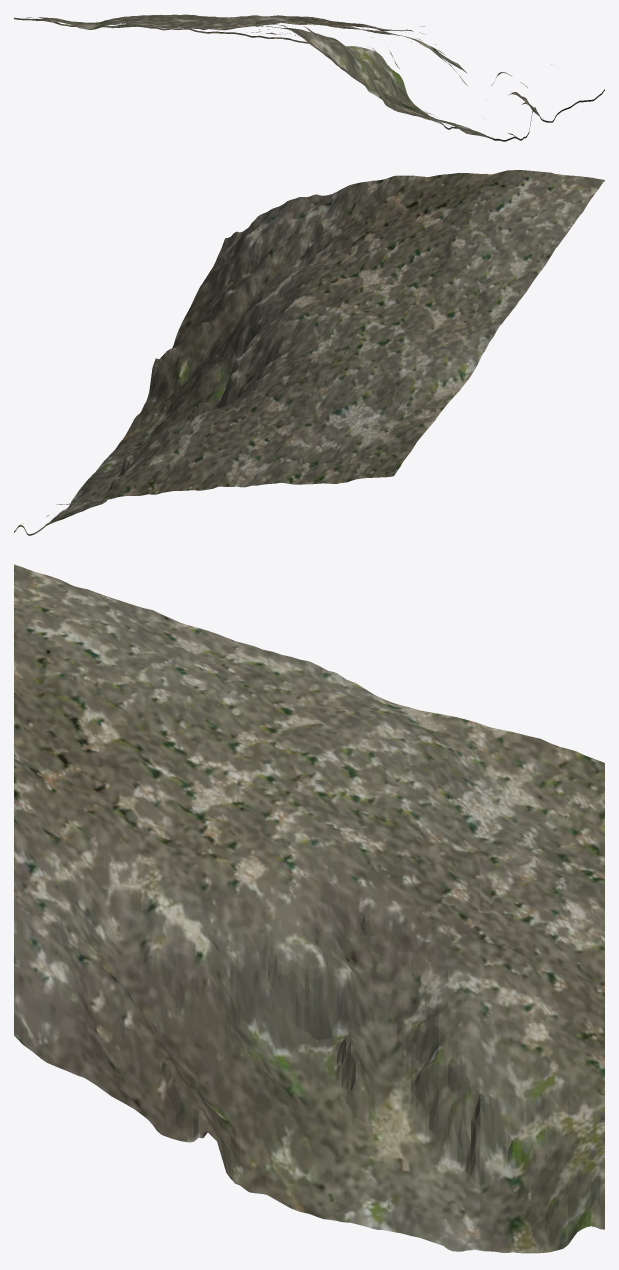
3 renders of one model, top to bottom at view 1: azimuth 30°, elevation 25°; view 2: azimuth 150°, elevation 25°; view 3: azimuth 270°, elevation 25°, orthographic. The views are drawn at different scales.
Bounding box in the file's own units: 250 × 194 × 241.
Materials: 1 (1 with a texture image).
